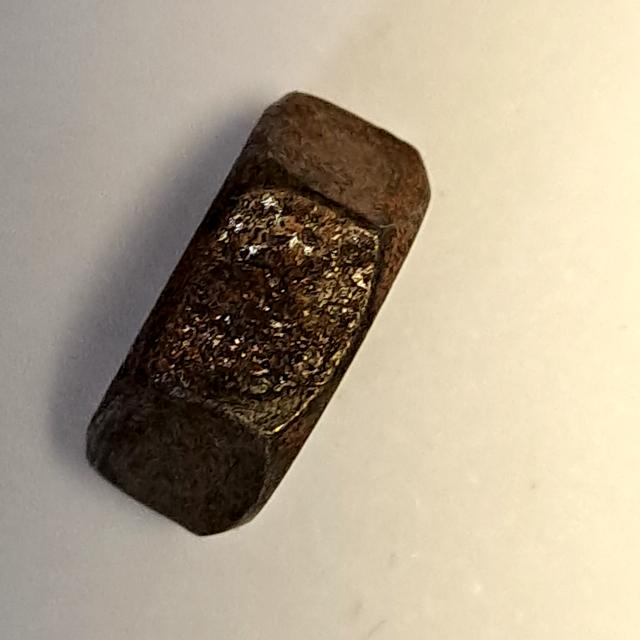Side_Rust: (77, 85, 445, 547)
